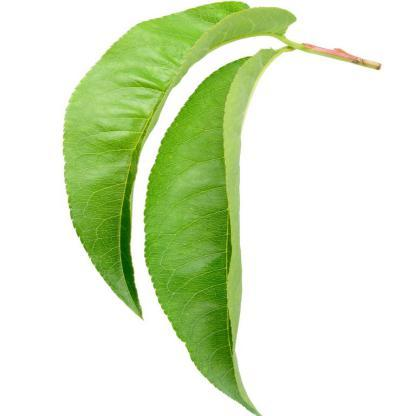Peach leaf: (49, 5, 288, 330), (136, 44, 282, 410)
